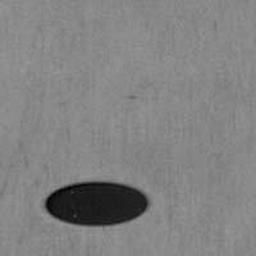Punching: (46, 182, 148, 227)
